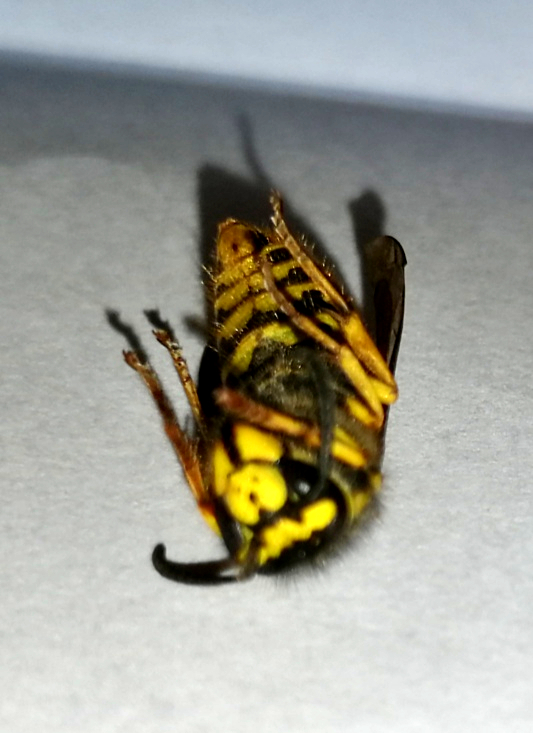chax: (104, 189, 445, 594)
